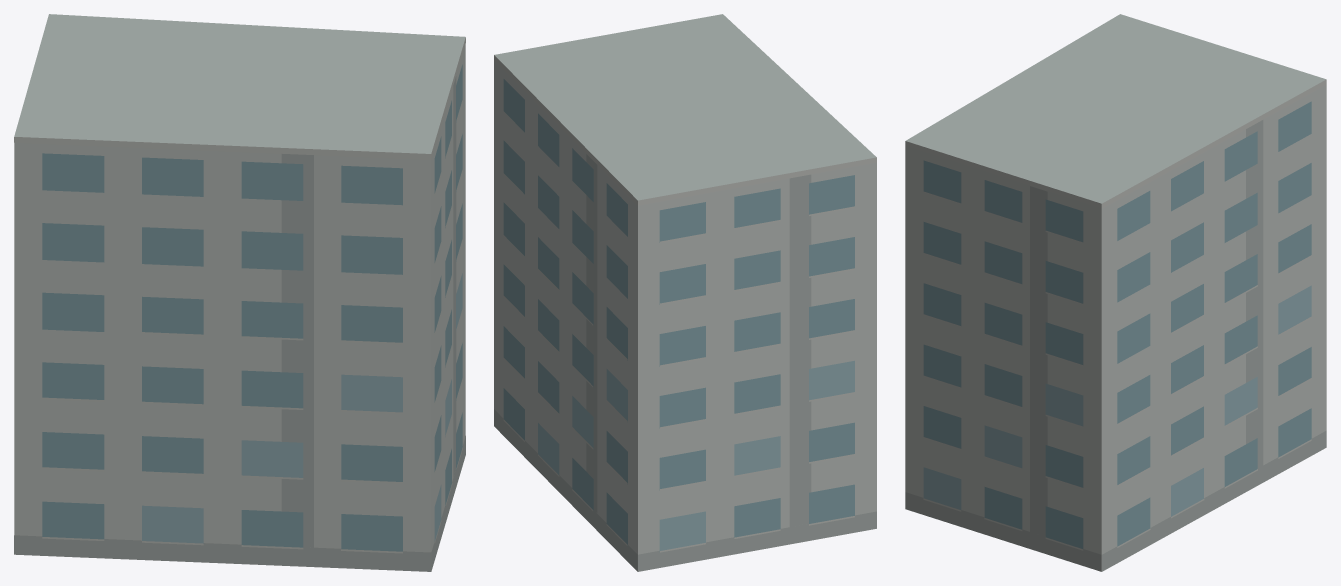
Rendered from survey-upis-32882882.glb.
3 renders of one model, left to right at view 1: azimuth 30°, elevation 25°; view 2: azimuth 150°, elevation 25°; view 3: azimuth 270°, elevation 25°, orthographic. The views are drawn at different scales.
Parts seen in each view (by area): view 1: survey-upis-32882882.tmp; view 2: survey-upis-32882882.tmp; view 3: survey-upis-32882882.tmp.
Boxes of the visible parts, left/top/right/bottom form: survey-upis-32882882.tmp: left=14, top=14, right=465, bottom=571; survey-upis-32882882.tmp: left=494, top=14, right=876, bottom=571; survey-upis-32882882.tmp: left=905, top=14, right=1326, bottom=571.
Size of the model in its own units: 18.9 by 17.1 by 17.74.
